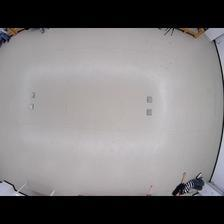fall: (169, 169, 208, 196)
